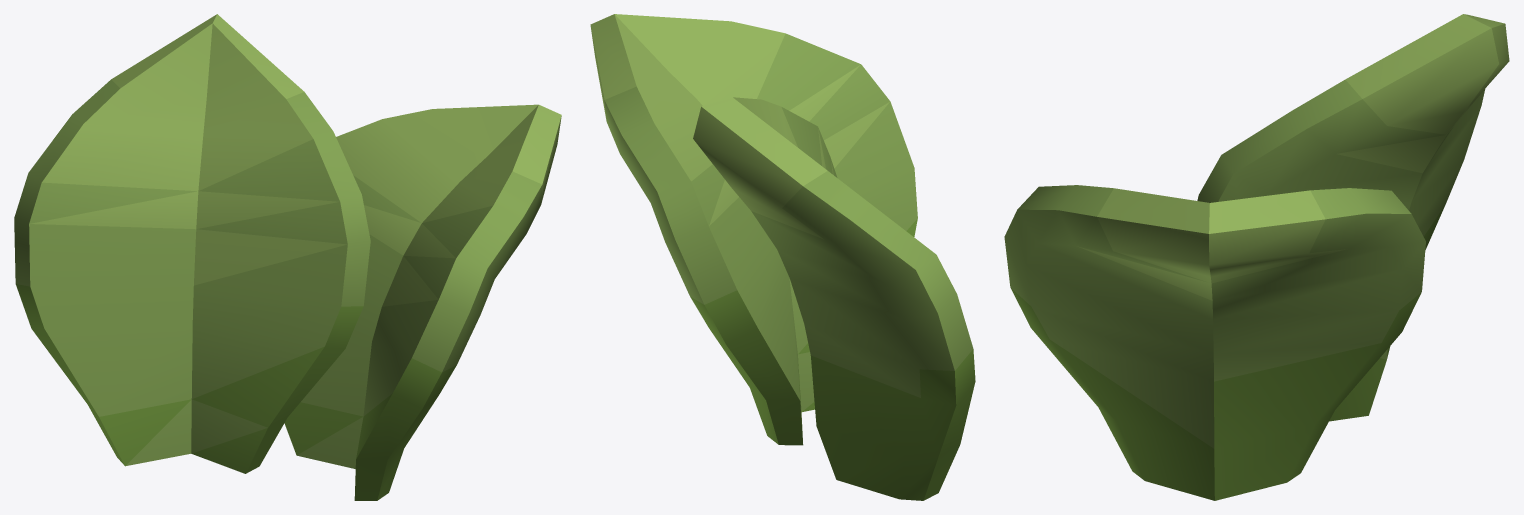
Rendered from itch_tiny_homely_house_foliage_a.glb.
The picture shows the model from 3 angles, left to right: view 1: azimuth 30°, elevation 25°; view 2: azimuth 150°, elevation 25°; view 3: azimuth 270°, elevation 25°; orthographic projection. The views are drawn at different scales.
Parts seen in each view (by area): view 1: foliage_A; view 2: foliage_A; view 3: foliage_A.
Boxes of the visible parts, box(x1,y1,x2,y2) form: foliage_A: box(14, 14, 561, 500); foliage_A: box(590, 14, 975, 500); foliage_A: box(1004, 14, 1509, 500).
Size of the model in its own units: 0.96 by 0.786 by 0.8099.
